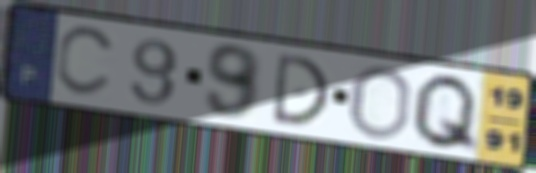9: (200, 42, 268, 123), (127, 37, 181, 106)
C: (52, 25, 120, 100)
D: (269, 51, 333, 128)
O: (345, 63, 415, 142)
Q: (407, 72, 482, 156)
